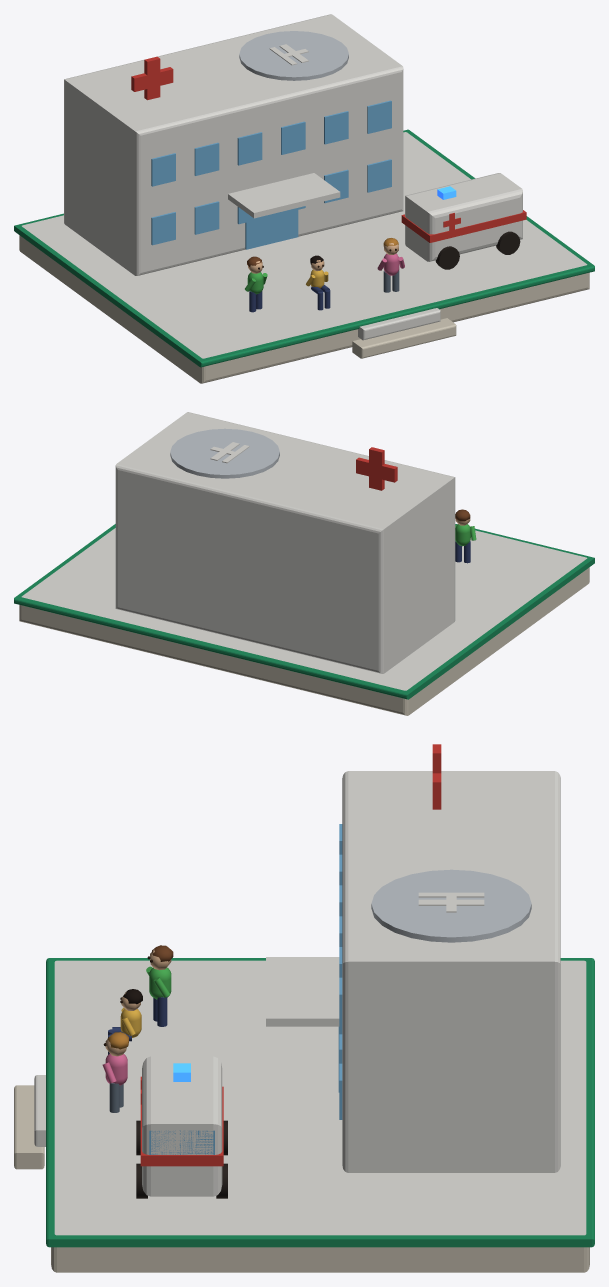
File: hospital.glb
The picture shows the model from 3 angles, top to bottom: view 1: azimuth 30°, elevation 25°; view 2: azimuth 150°, elevation 25°; view 3: azimuth 270°, elevation 25°; orthographic projection. The views are drawn at different scales.
Visible parts, largest first — view 1: part_000; view 2: part_000; view 3: part_000.
Part boxes in pixels (x1,y1,x2,y2): part_000: [14, 14, 594, 383]; part_000: [14, 412, 594, 715]; part_000: [14, 744, 594, 1272].
Size of the model in its own units: 9.14 by 4.65 by 7.98.
